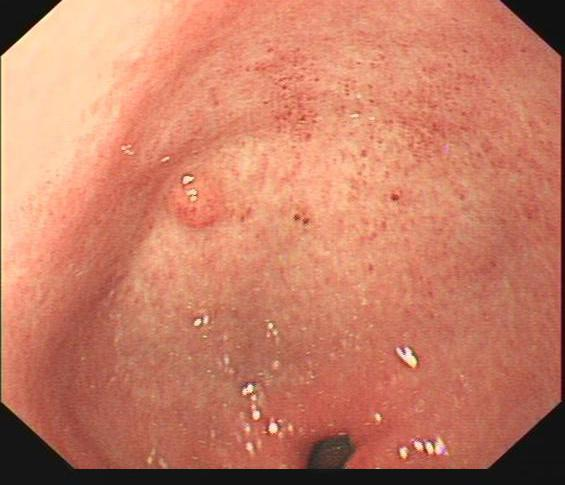Polyp: (152, 154, 226, 249)
